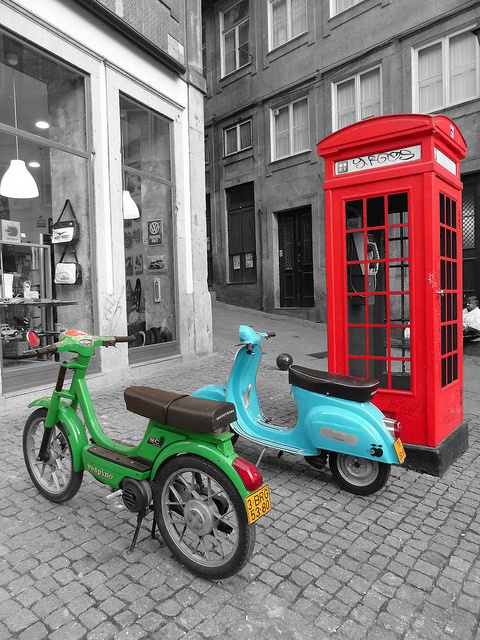non-vehicle: (14, 328, 272, 580), (189, 322, 405, 495)
